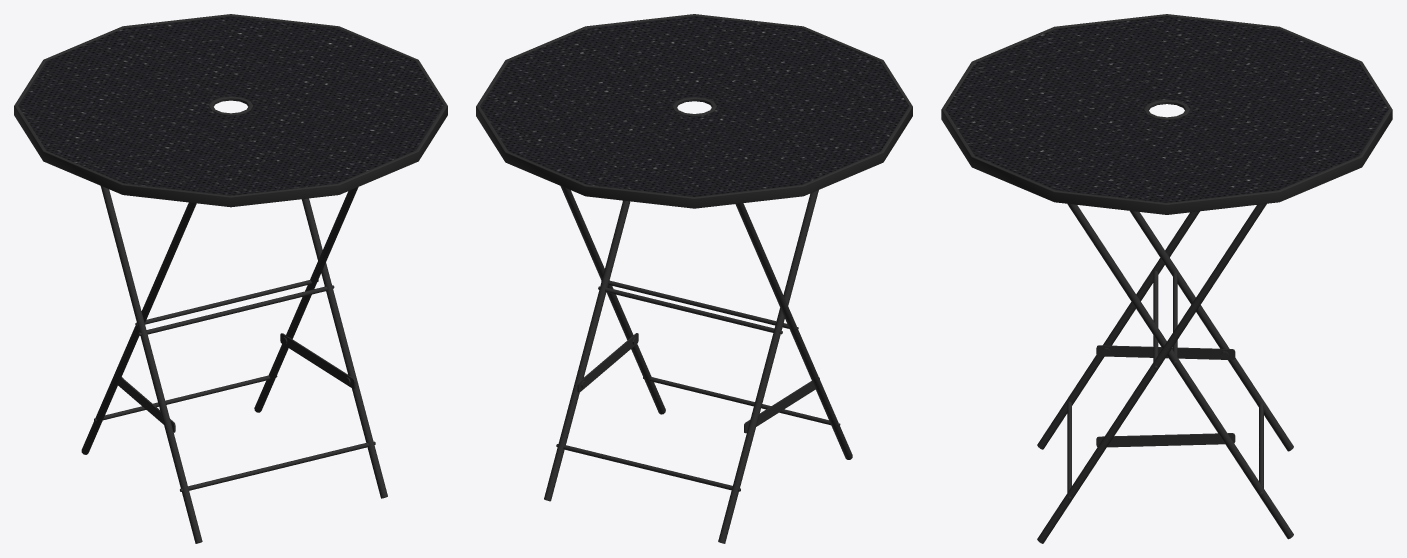
The model's file is Tables_Kitchen_Tables_2.fbx.
3 renders of one model, left to right at view 1: azimuth 30°, elevation 25°; view 2: azimuth 150°, elevation 25°; view 3: azimuth 270°, elevation 25°, orthographic. The views are drawn at different scales.
Visible parts, largest first — view 1: Cube.032; view 2: Cube.032; view 3: Cube.032.
Boxes of the visible parts, box(x1,y1,x2,y2) form: Cube.032: box(14, 14, 447, 543); Cube.032: box(476, 14, 912, 543); Cube.032: box(941, 14, 1392, 543).
Bounding box in the file's own units: 116 × 109 × 116.
